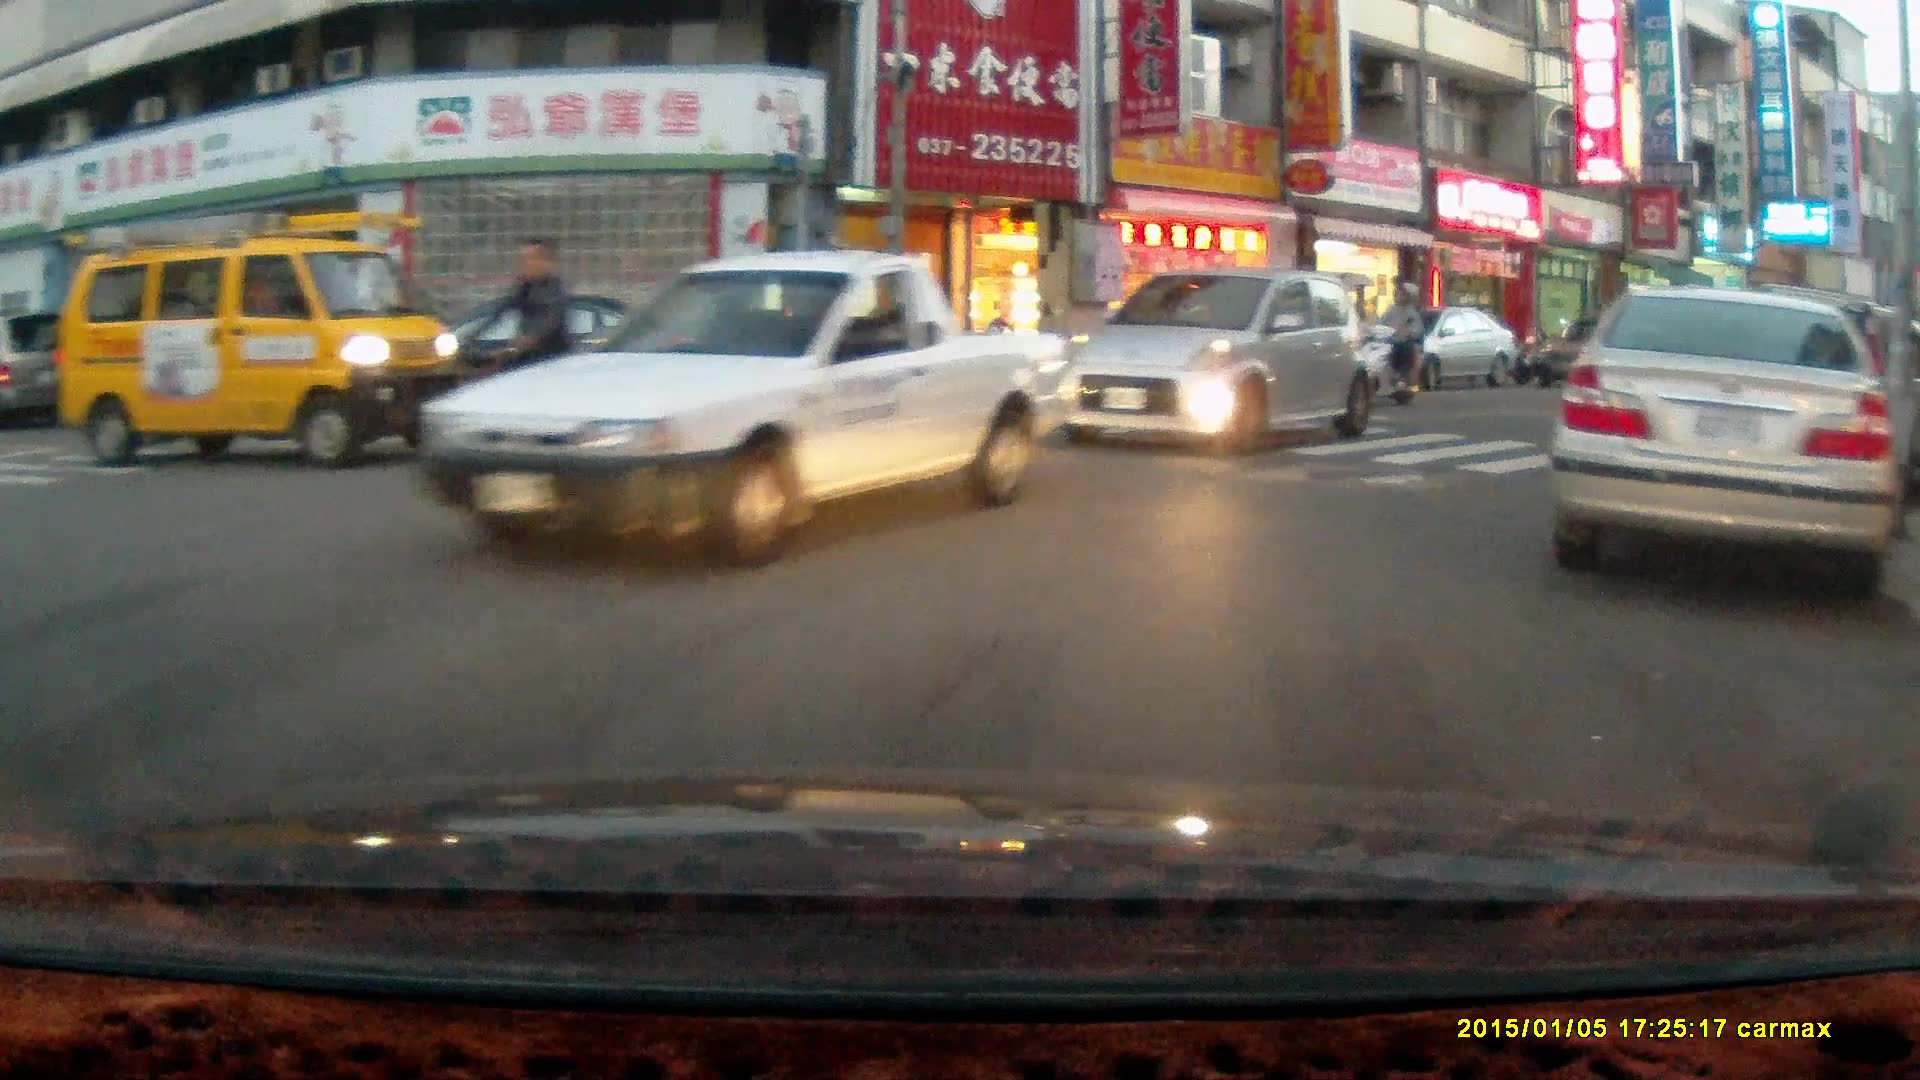rider: (424, 235, 619, 483), (1360, 274, 1426, 407)
vehicle: (403, 243, 1071, 572), (1548, 281, 1891, 612), (51, 207, 468, 471), (1051, 265, 1377, 454), (1675, 291, 1920, 510), (394, 289, 705, 420), (1377, 304, 1517, 385)
